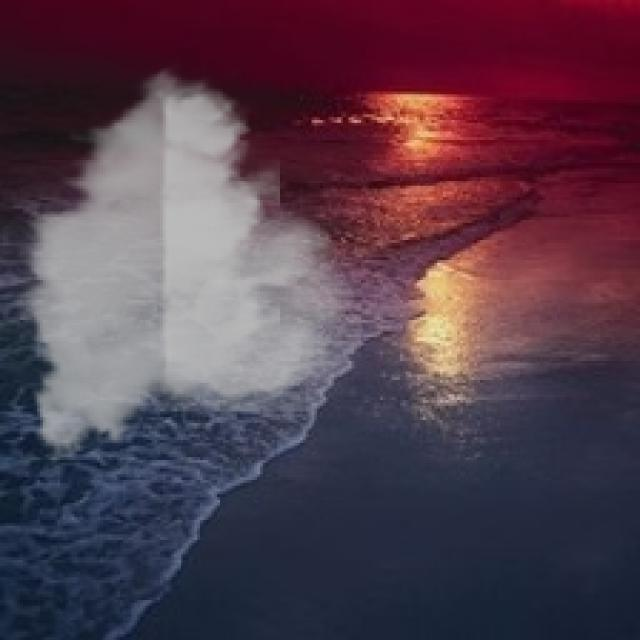smoke: (11, 57, 360, 474)
